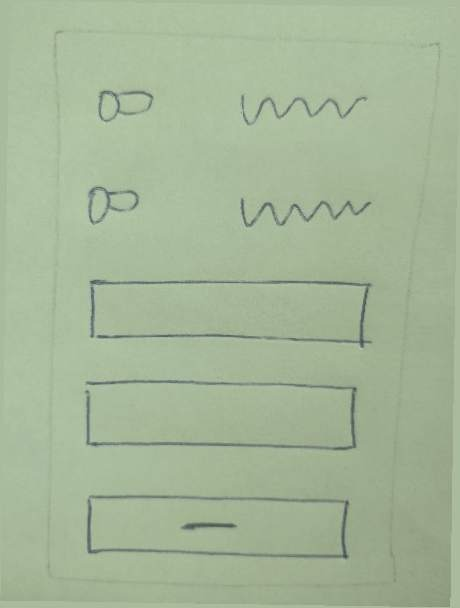button: (80, 486, 354, 567)
switch: (77, 178, 155, 235), (86, 81, 163, 138)
text: (235, 186, 378, 233), (229, 84, 371, 131)
text_input: (83, 270, 377, 357), (74, 372, 368, 459)
